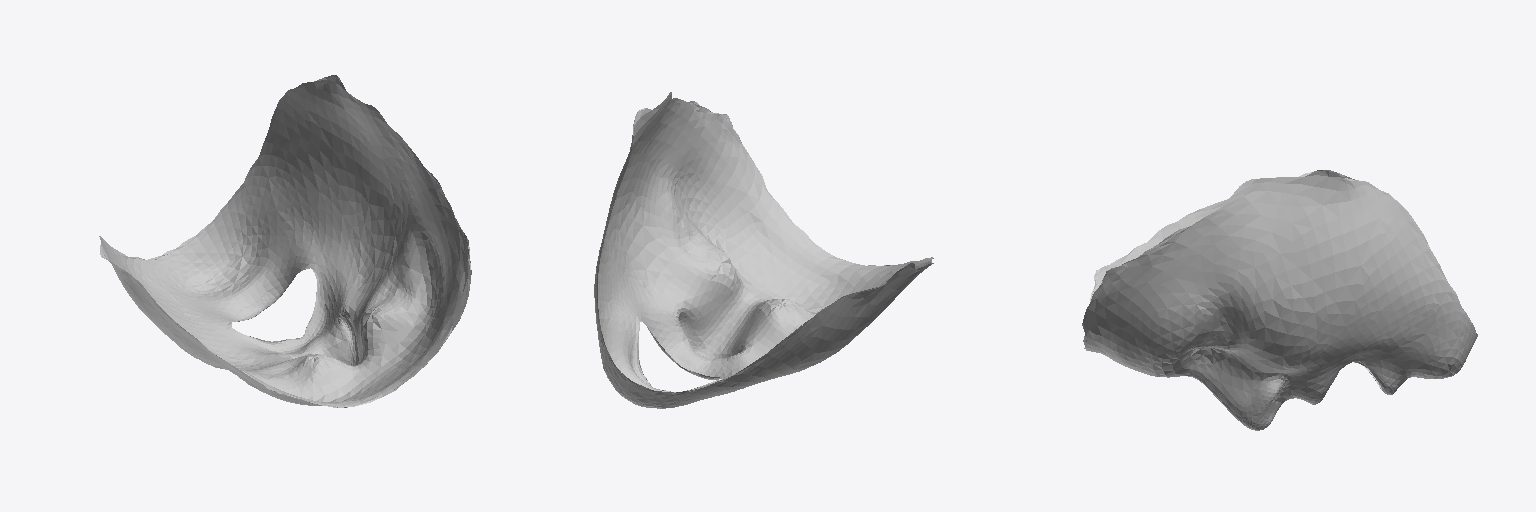
The model's file is face_gab_sfm56.obj.
The picture shows the model from 3 angles: view 1: azimuth 30°, elevation 25°; view 2: azimuth 150°, elevation 25°; view 3: azimuth 270°, elevation 25°; orthographic projection.
Size of the model in its own units: 167 by 162 by 211.